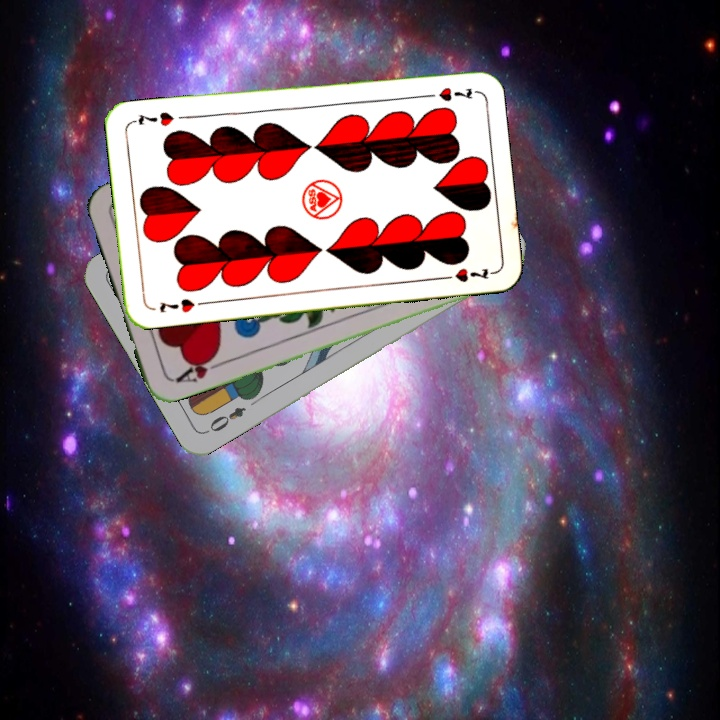EO: (202, 403, 249, 436)
H7: (418, 83, 477, 102), (155, 294, 197, 316)
HA: (170, 350, 227, 386)
